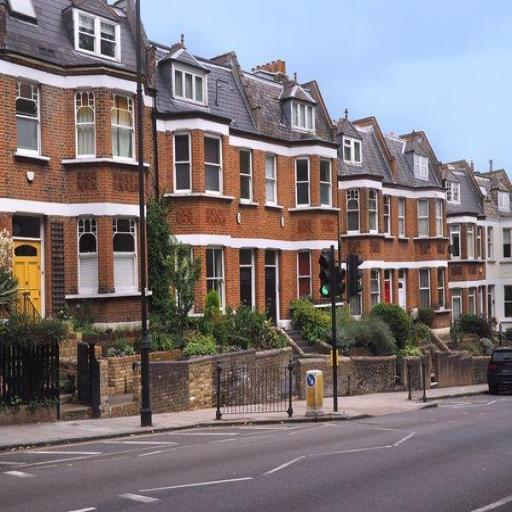door: (13, 234, 50, 324)
